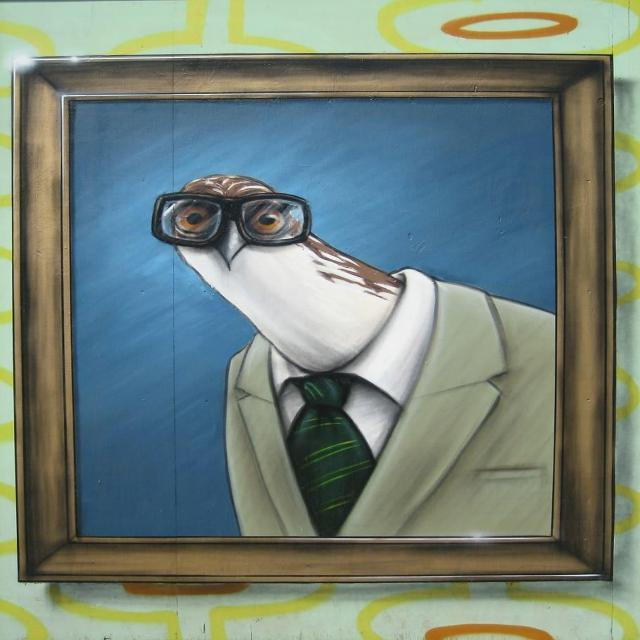painting: (13, 54, 613, 581)
